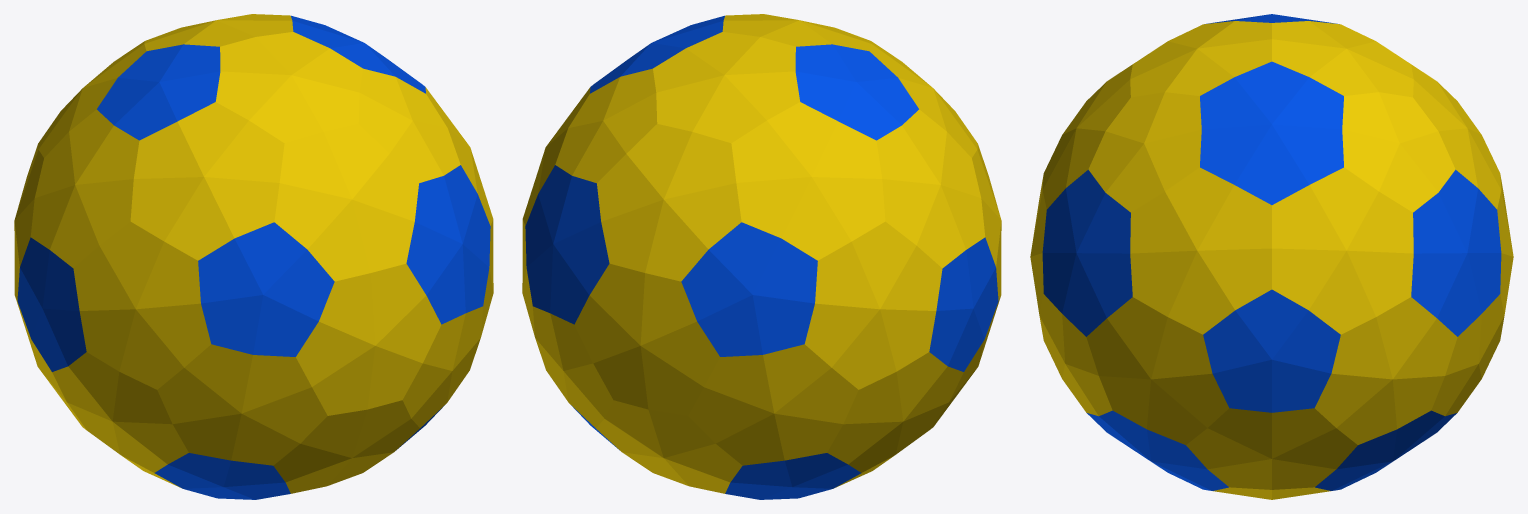
File: yellow.glb
3 renders of one model, left to right at view 1: azimuth 30°, elevation 25°; view 2: azimuth 150°, elevation 25°; view 3: azimuth 270°, elevation 25°, orthographic.
Parts seen in each view (by area): view 1: Yellow; view 2: Yellow; view 3: Yellow.
Boxes of the visible parts, x1,y1,x2,y2 form: Yellow: [14, 14, 493, 499]; Yellow: [522, 14, 1001, 499]; Yellow: [1030, 14, 1513, 499].
Size of the model in its own units: 1.86 by 1.85 by 1.85.
